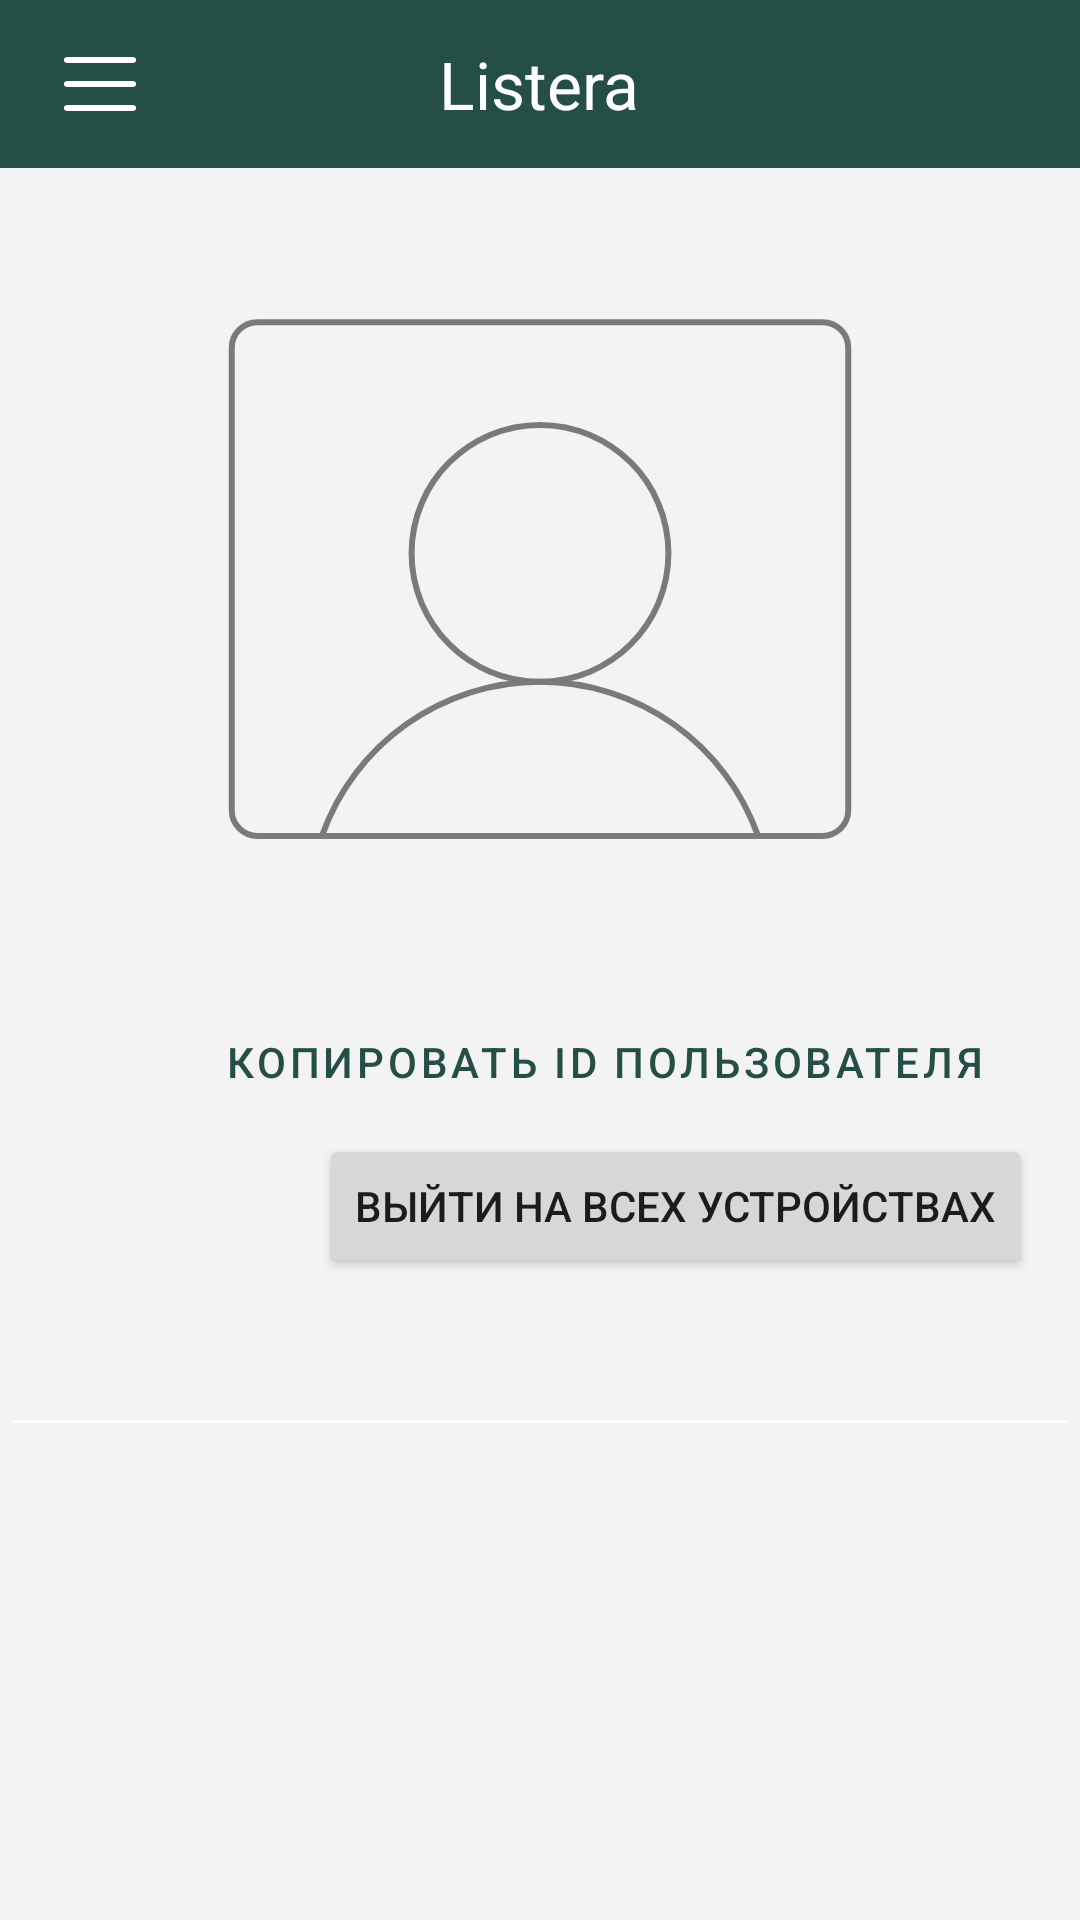

Icon click points for this 1080w x 1920h phone screenshot, format (x,y):
bar: (100,84)
